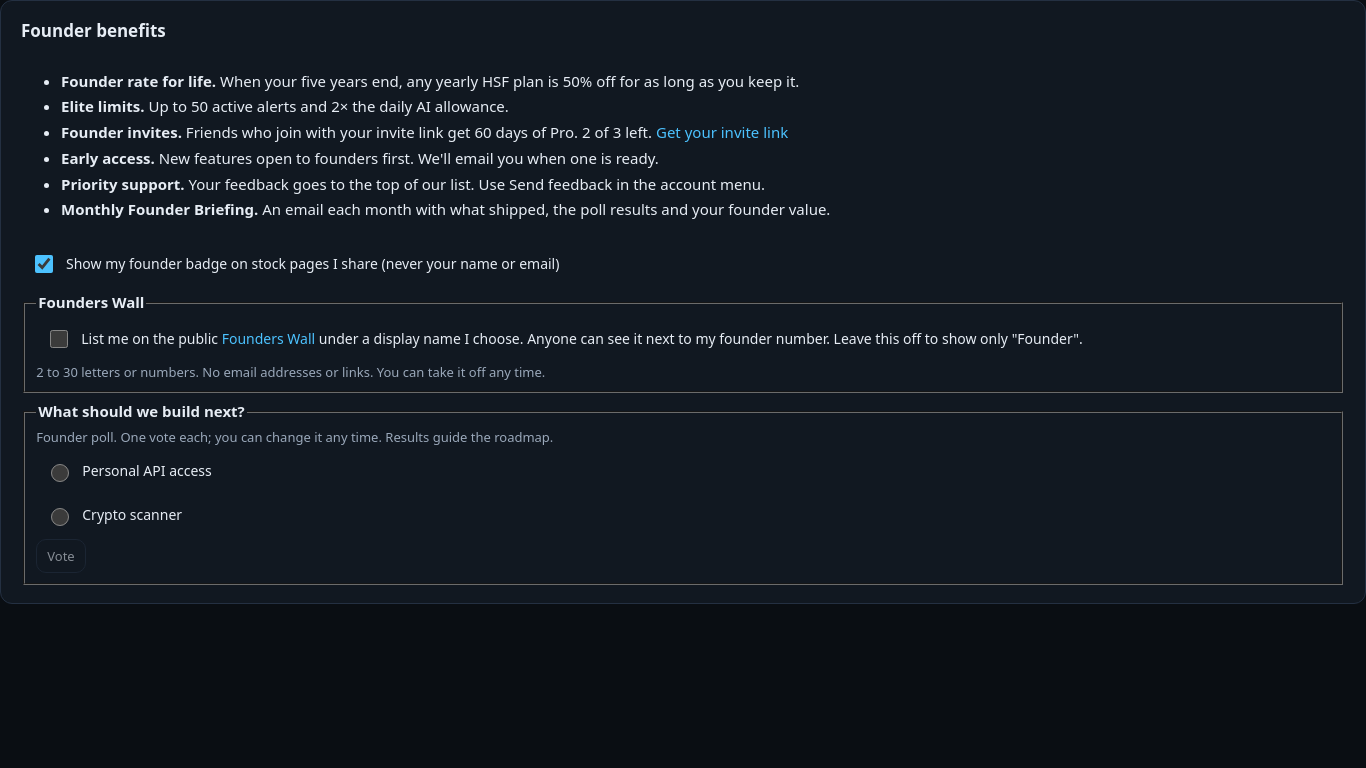
Test: founder benefits › lists the benefits, toggles the badge and votes
This screenshot has width=1366, height=768.
Expected: the list item "any yearly HSF plan is 50% off" is shown, [61,71,799,91]
Expected: the list item "Up to 50 active alerts" is shown, [61,96,509,116]
What coordinates should you click on to do the following:
click the checkbox labelled "Show my founder badge"
I would click on:
 (44, 264)
Its box is [35,255,53,273].
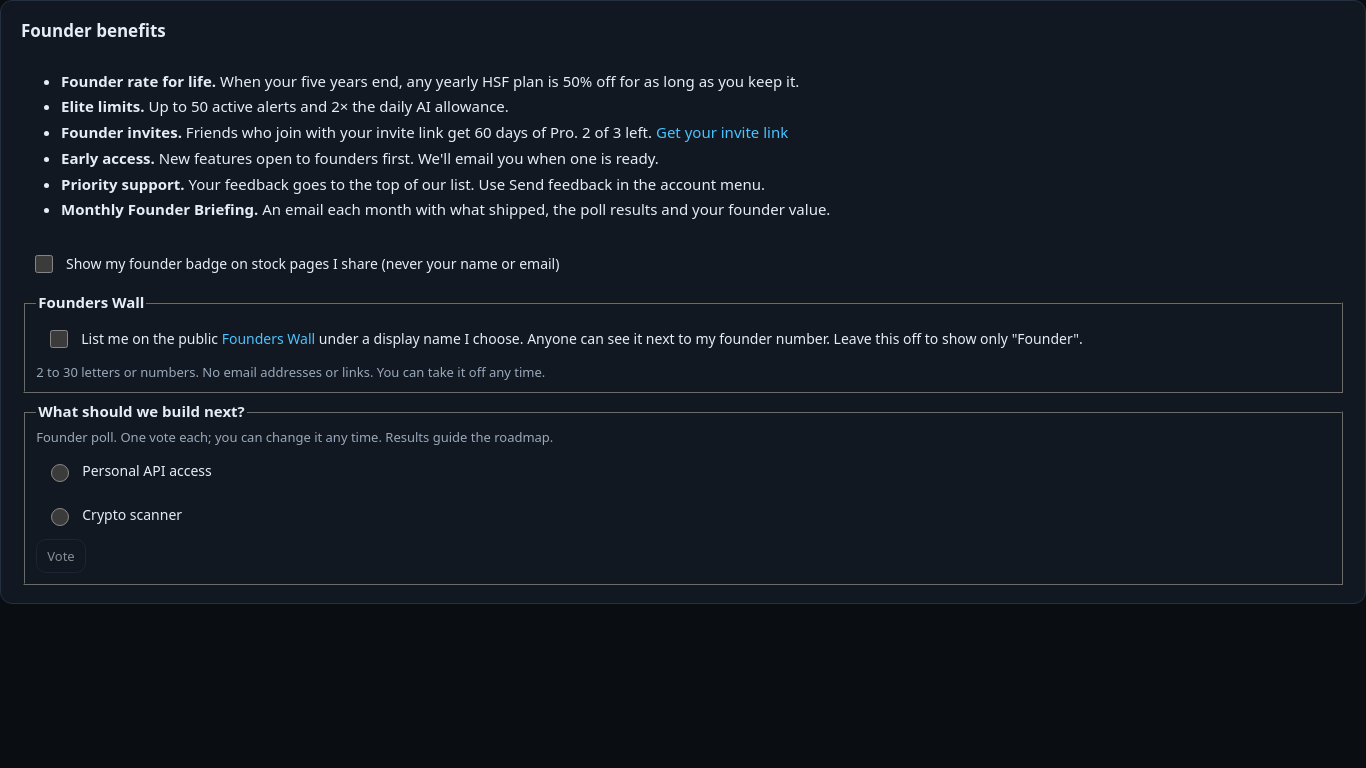
Expected: the checkbox labelled "Show my founder badge" is not checked, [35,255,53,273]
What coordinates should you click on to do the following:
click the radio button labelled "Crypto scanner"
I would click on:
 (60, 517)
Its box is [51,508,69,526].
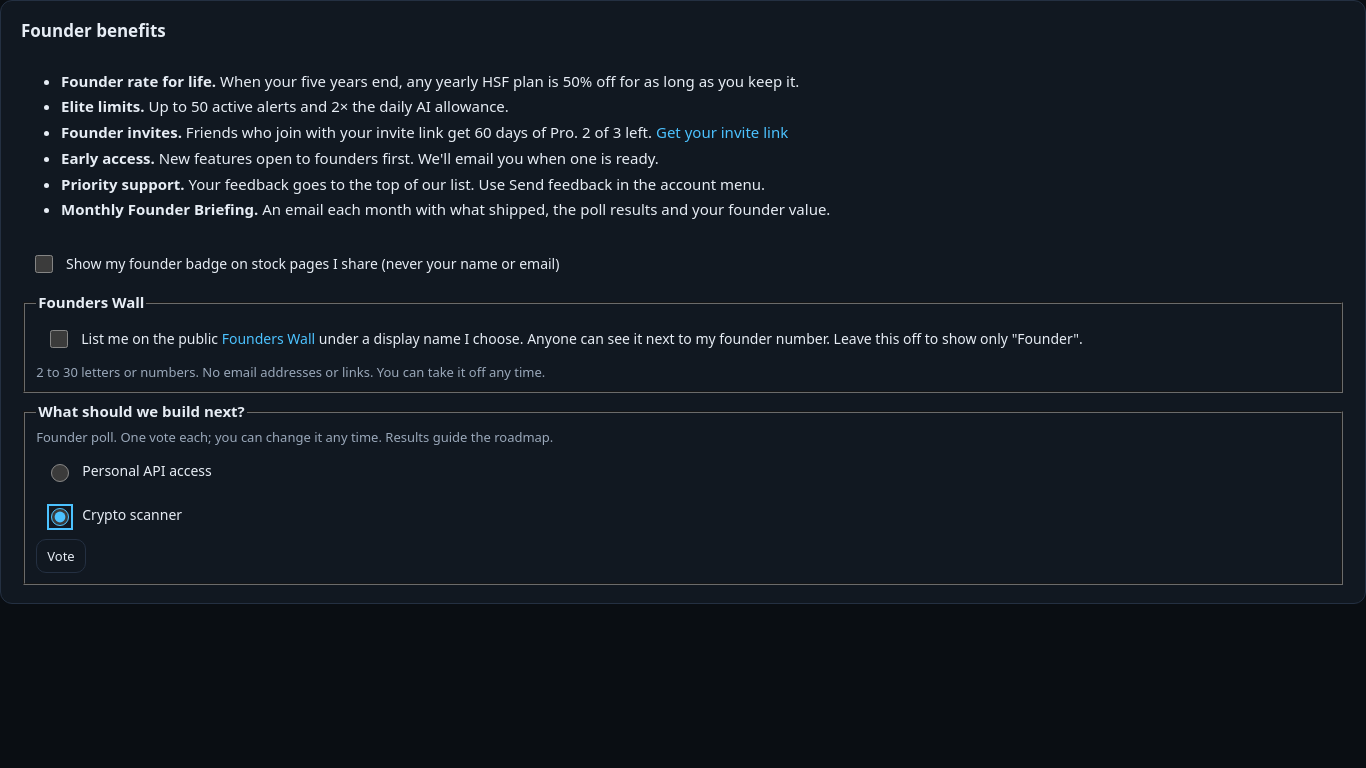
What coordinates should you click on to do the following:
click the button "Vote"
I would click on:
 (61, 556)
Its box is [36,539,86,573].
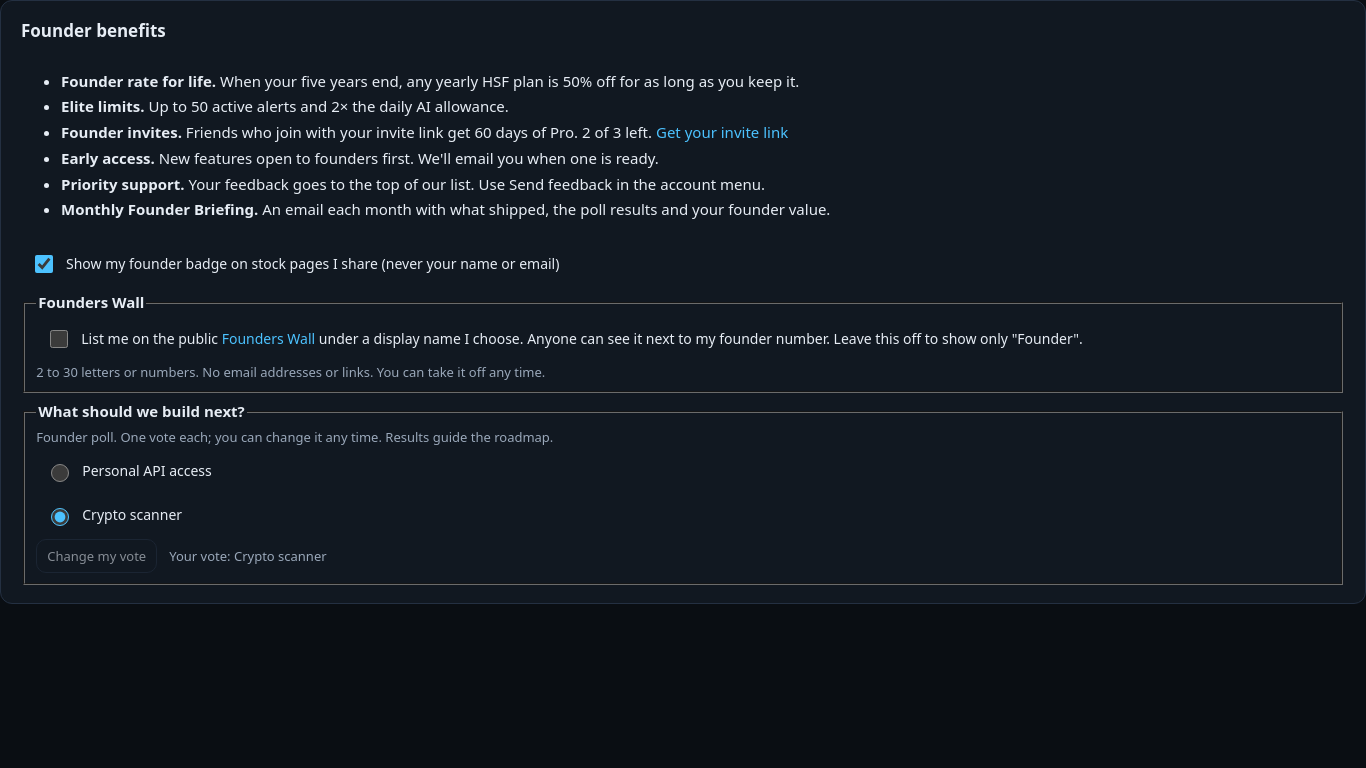
Expected: the text "Your vote: Crypto scanner" is shown, [169,547,327,566]
